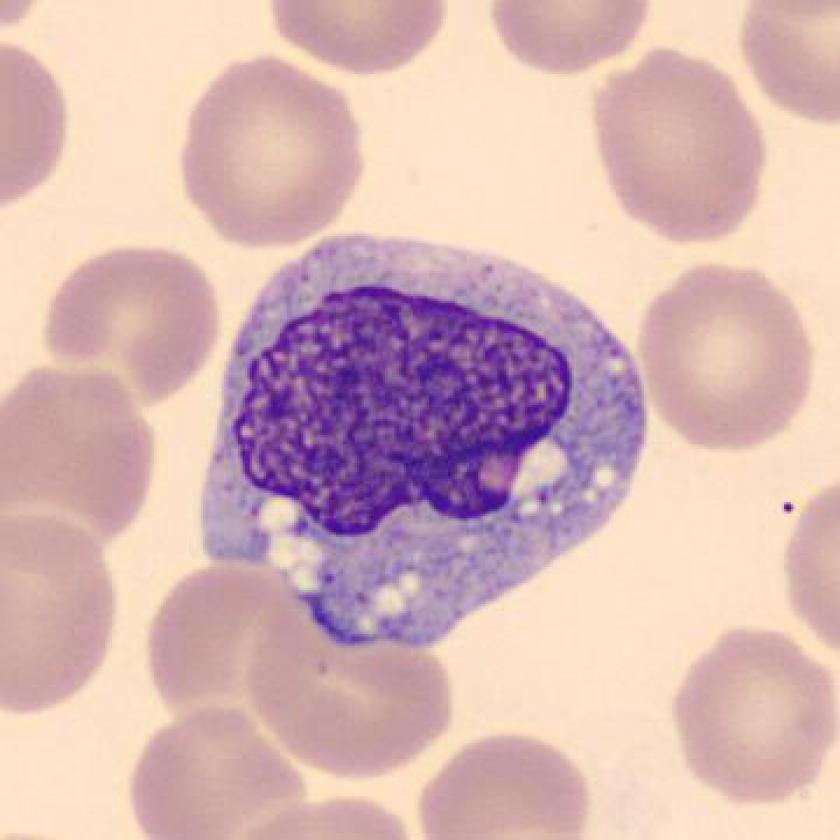monocyte: (181, 200, 671, 667)
